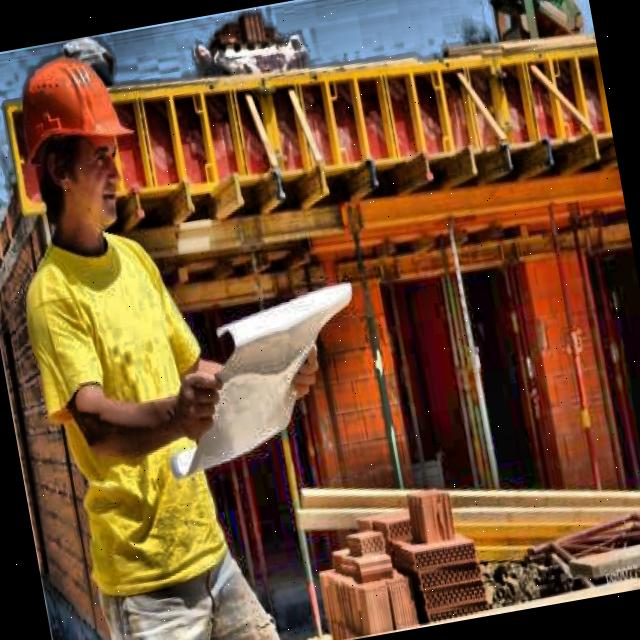helmet: (0, 31, 150, 262)
